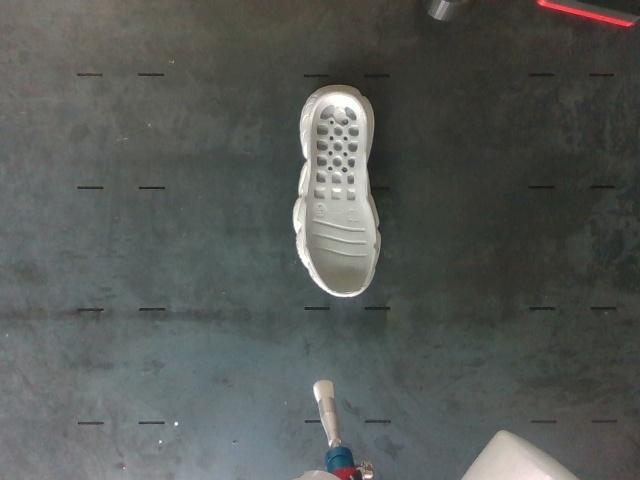shoes: (305, 91, 376, 294)
